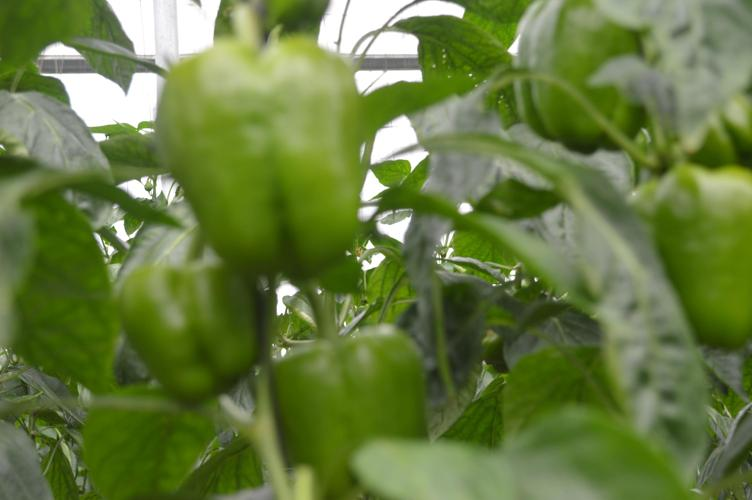BellPepper: (166, 44, 366, 260), (506, 11, 652, 151), (284, 327, 423, 472), (116, 257, 257, 385), (647, 163, 745, 346)
